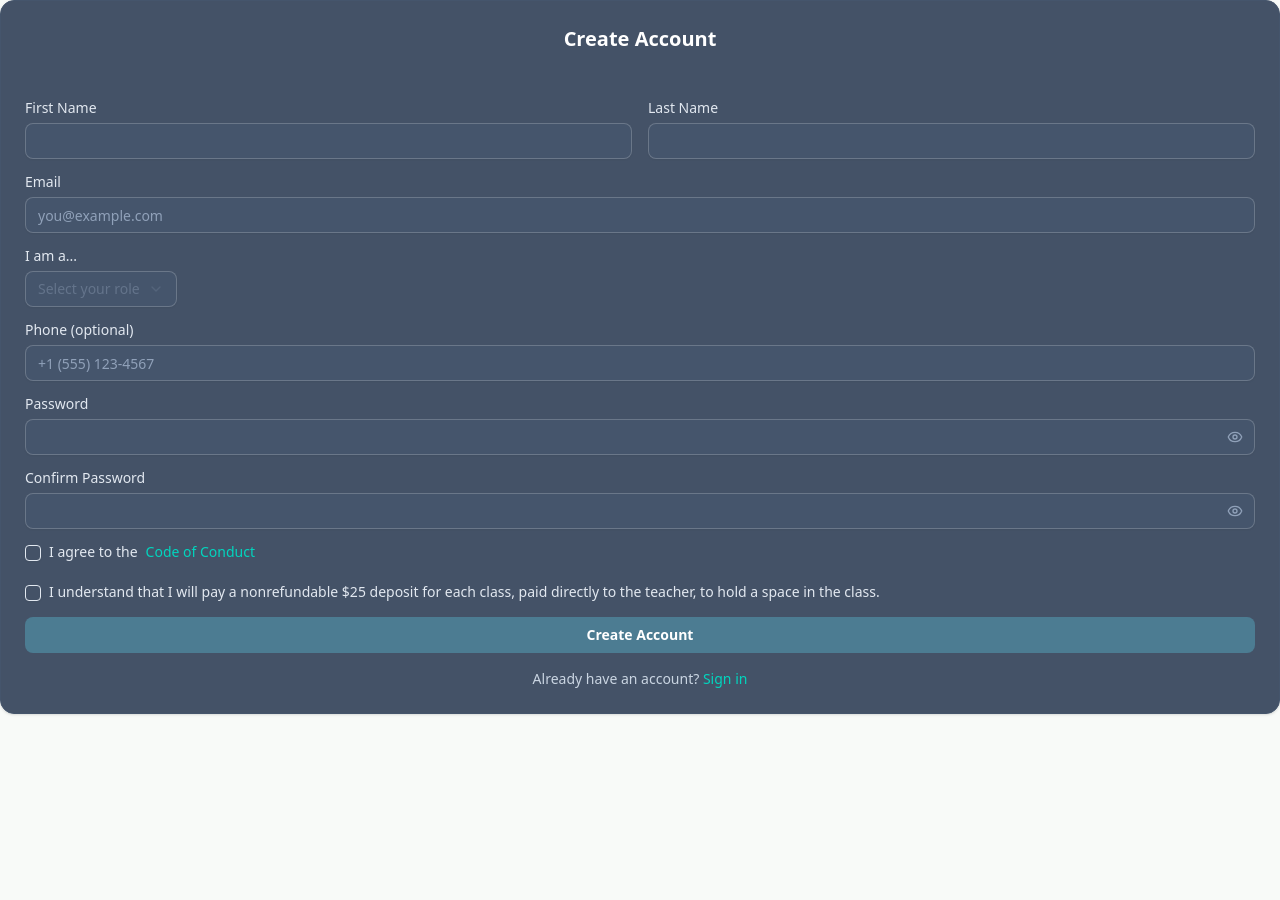
Test: RegisterForm › shows the age field only when Student is selected
The image size is (1280, 900).
Click the dropdown with test id "role-select-trigger" at [101, 289], box [25, 271, 177, 307]
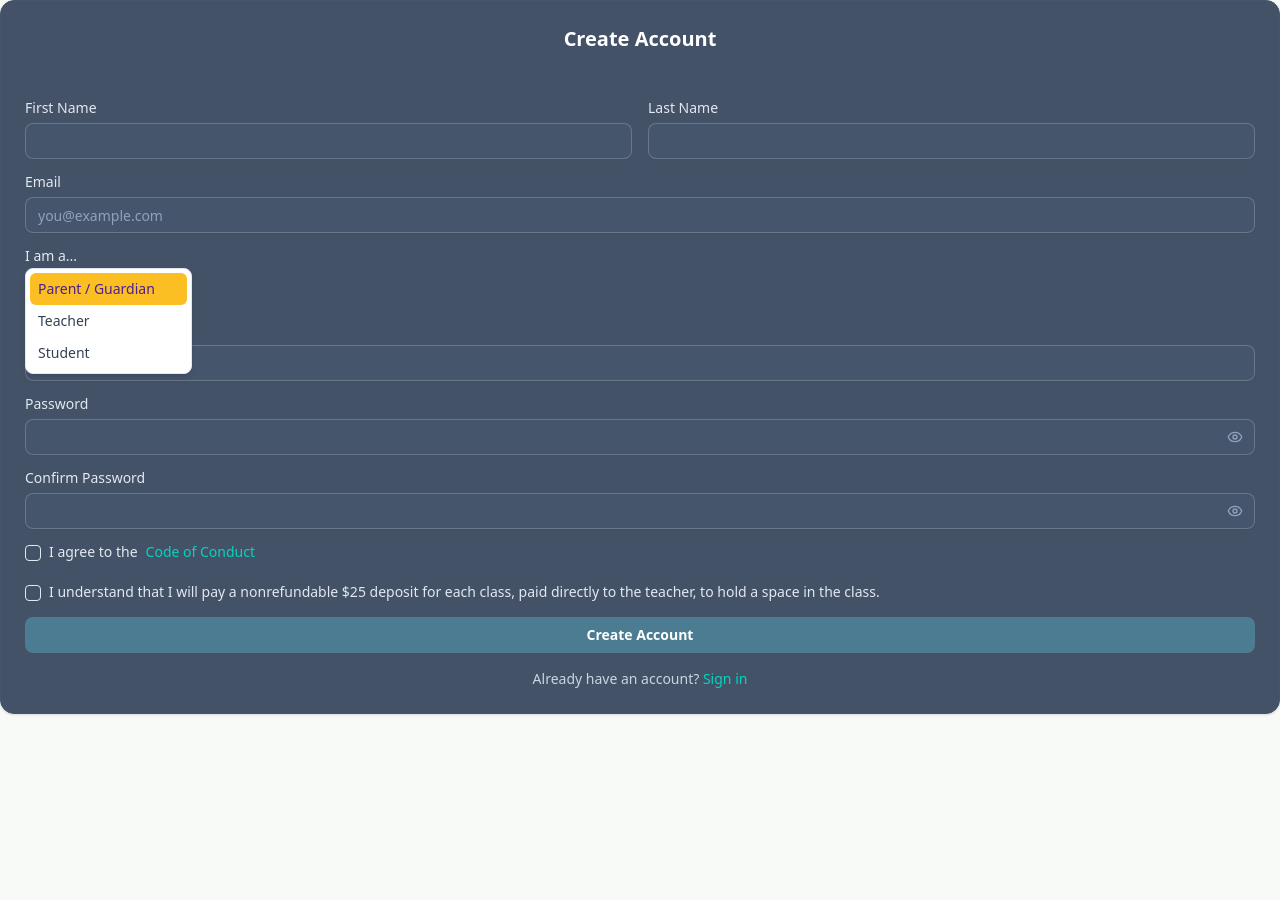
Click the option with test id "role-option-student" at [64, 352], box [38, 343, 90, 362]
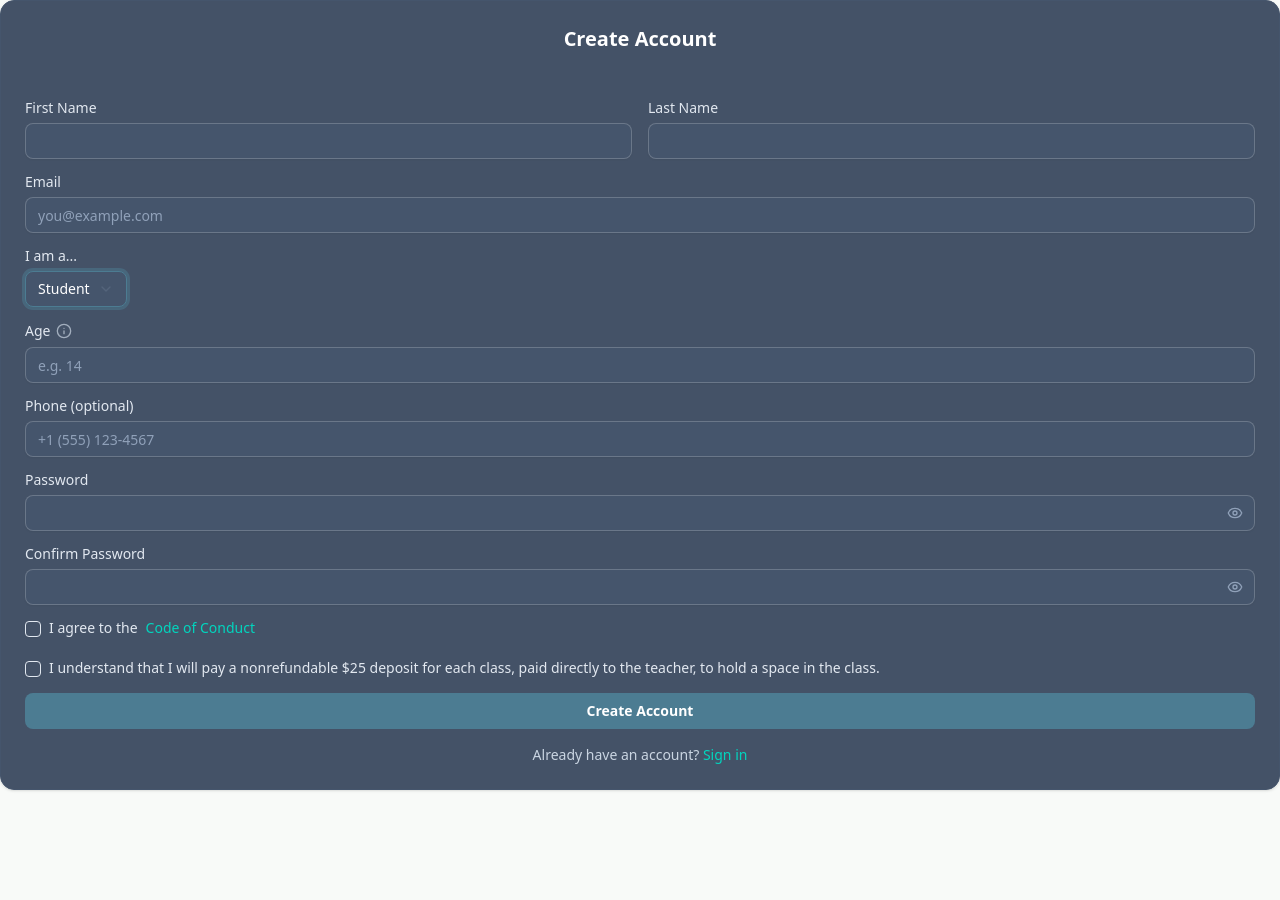
Expected: the number field with test id "age-input" is shown, [25, 347, 1255, 383]
// Switching away from Student hides it again
Click the dropdown with test id "role-select-trigger" at [76, 289], box [25, 271, 127, 307]
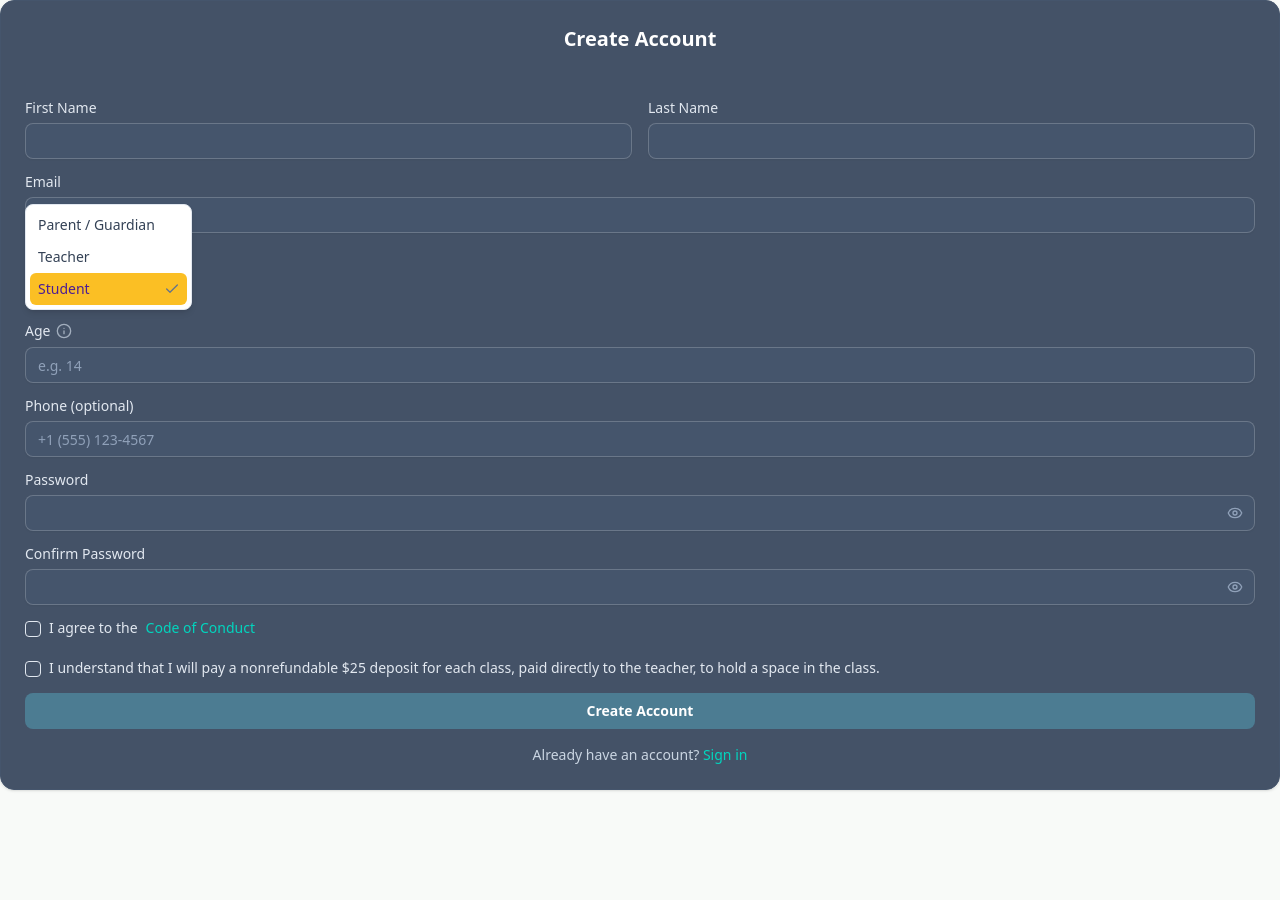
Click the option with test id "role-option-parent" at [96, 224], box [38, 215, 155, 234]
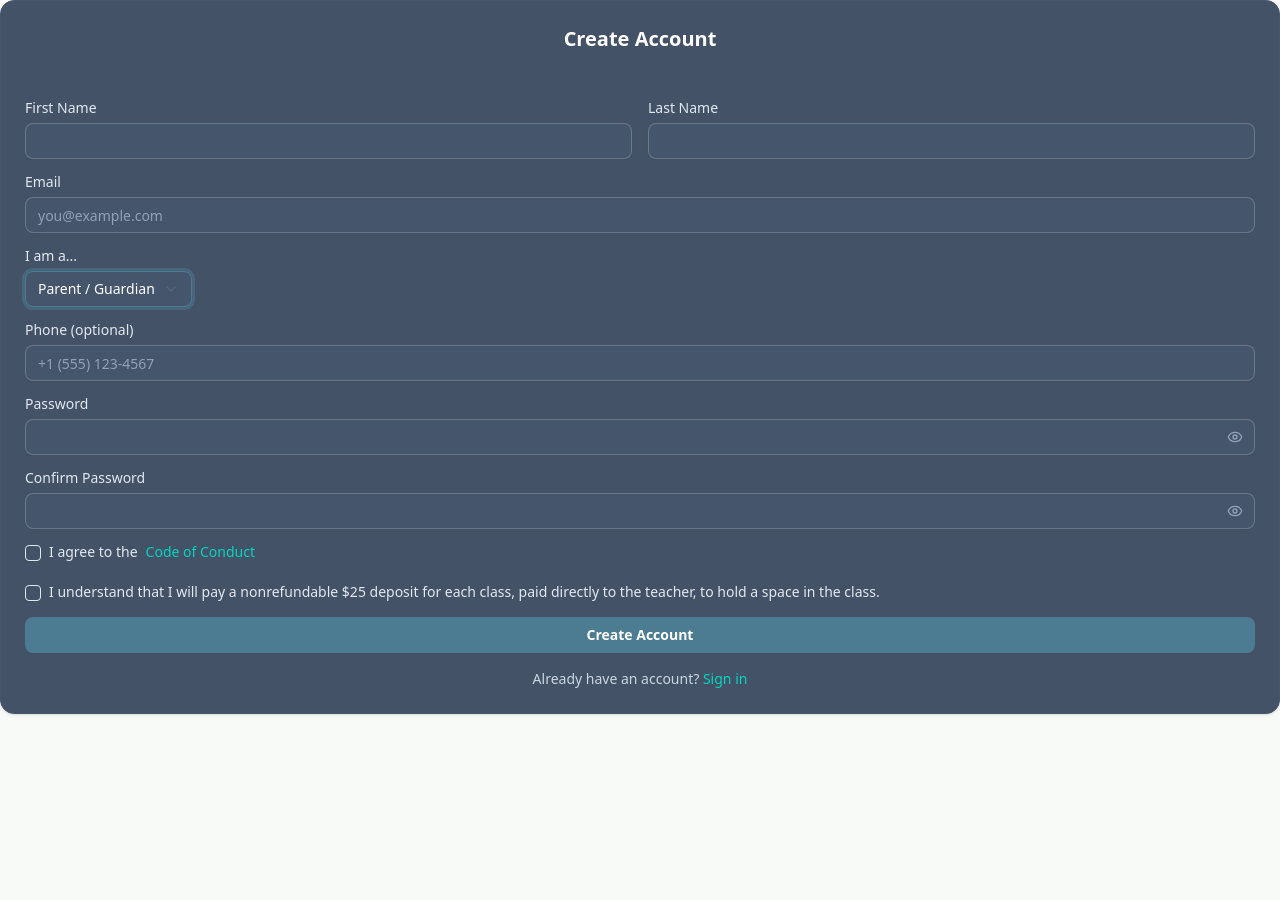
Expected: the number field with test id "age-input" is gone
